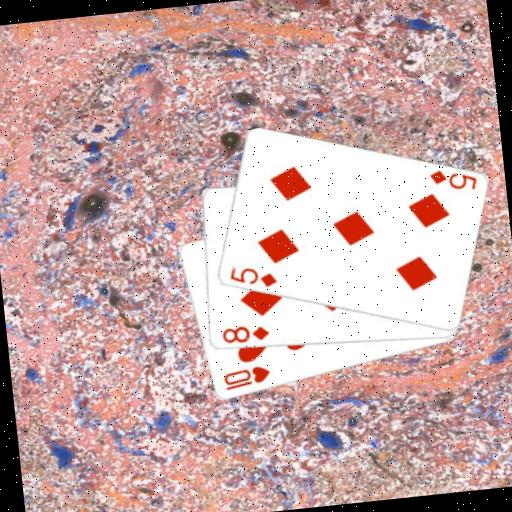10H: (219, 362, 272, 394)
5D: (225, 260, 279, 294), (425, 163, 480, 196)
8D: (219, 320, 272, 346)
